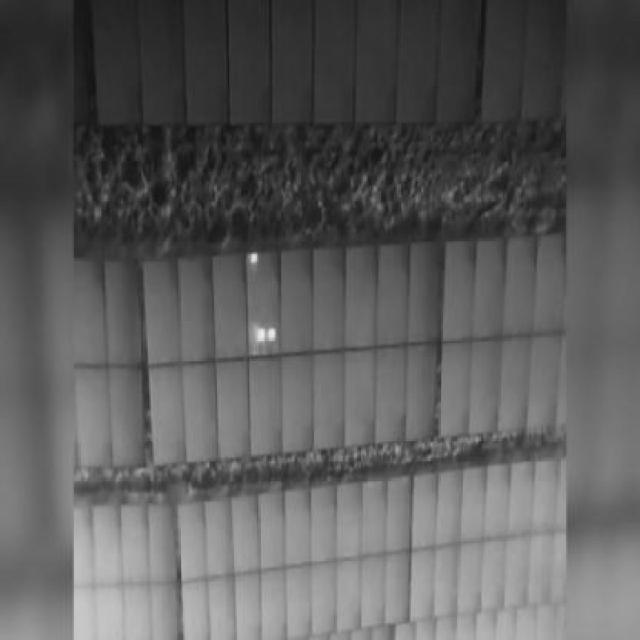hotspot: (267, 324, 278, 342), (256, 327, 266, 345), (252, 254, 258, 268)
